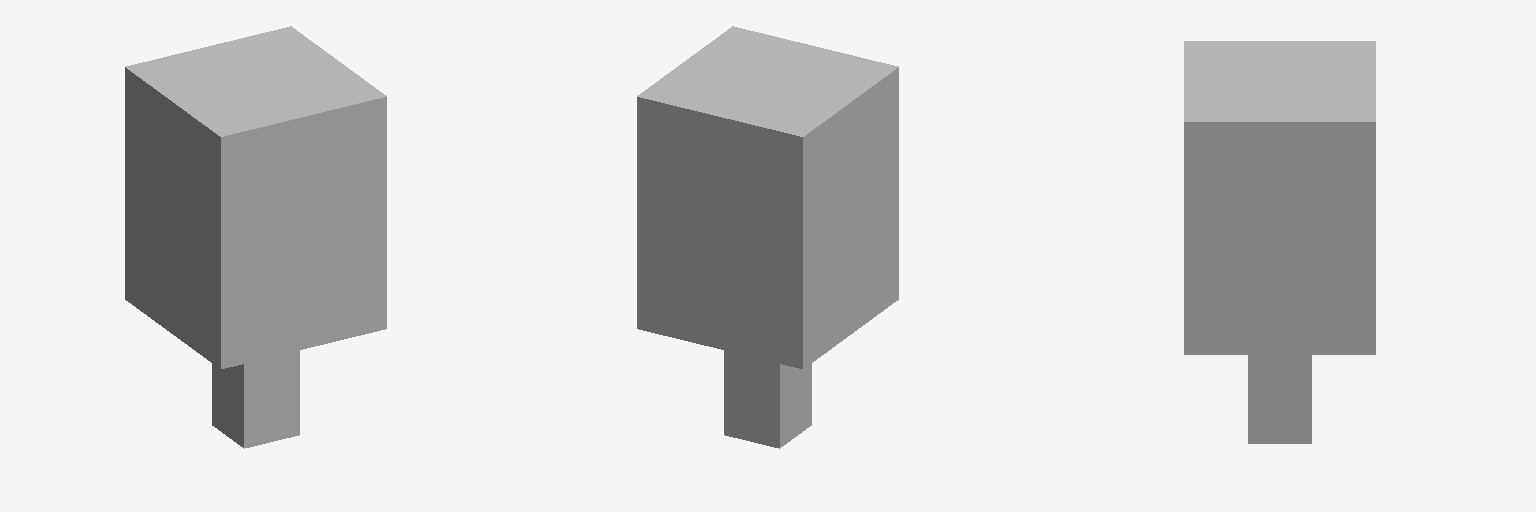
Rendered from tree.obj.
The picture shows the model from 3 angles: view 1: azimuth 30°, elevation 25°; view 2: azimuth 150°, elevation 25°; view 3: azimuth 270°, elevation 25°; orthographic projection.
Size of the model in its own units: 3 by 6 by 3.